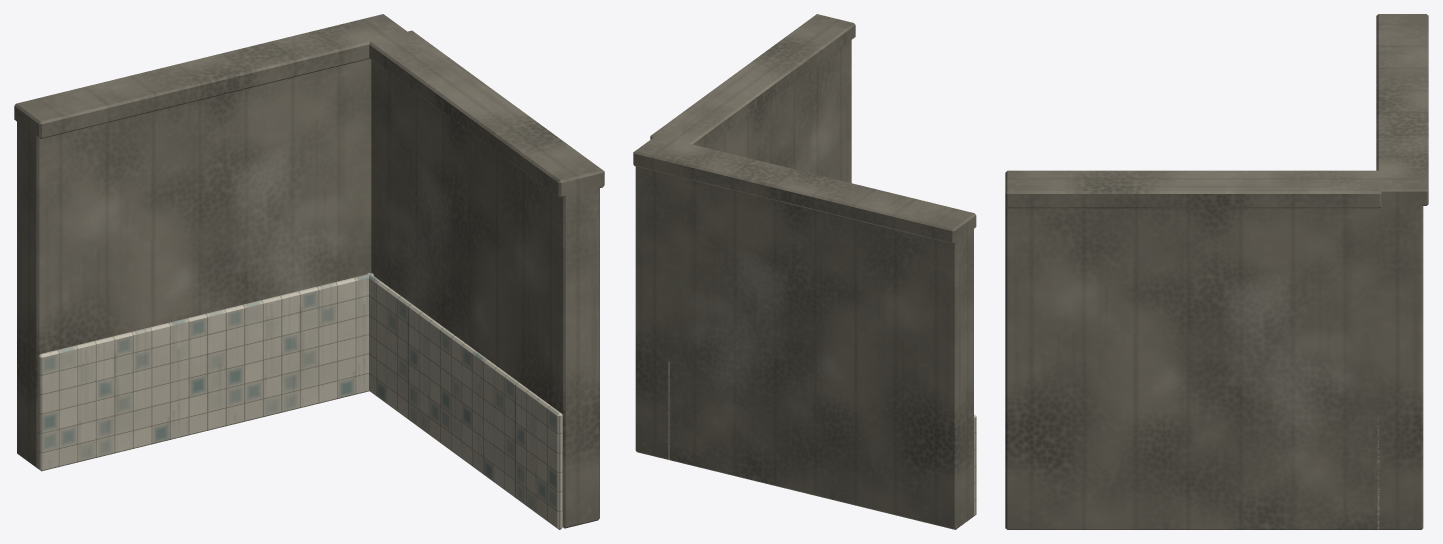
File: WK_WALL_CORNER_INNER_A_01.glb
3 renders of one model, left to right at view 1: azimuth 30°, elevation 25°; view 2: azimuth 150°, elevation 25°; view 3: azimuth 270°, elevation 25°, orthographic. The views are drawn at different scales.
Parts seen in each view (by area): view 1: WK_WALL_CORNER_INNER_A_01; view 2: WK_WALL_CORNER_INNER_A_01; view 3: WK_WALL_CORNER_INNER_A_01.
Part boxes in pixels (x1=…): WK_WALL_CORNER_INNER_A_01: x1=14, y1=14, x2=604, y2=529; WK_WALL_CORNER_INNER_A_01: x1=633, y1=14, x2=976, y2=529; WK_WALL_CORNER_INNER_A_01: x1=1005, y1=14, x2=1428, y2=529.
Bounding box in the file's own units: 4.05 × 3.6 × 4.05.
Materials: 2 (2 with a texture image).
